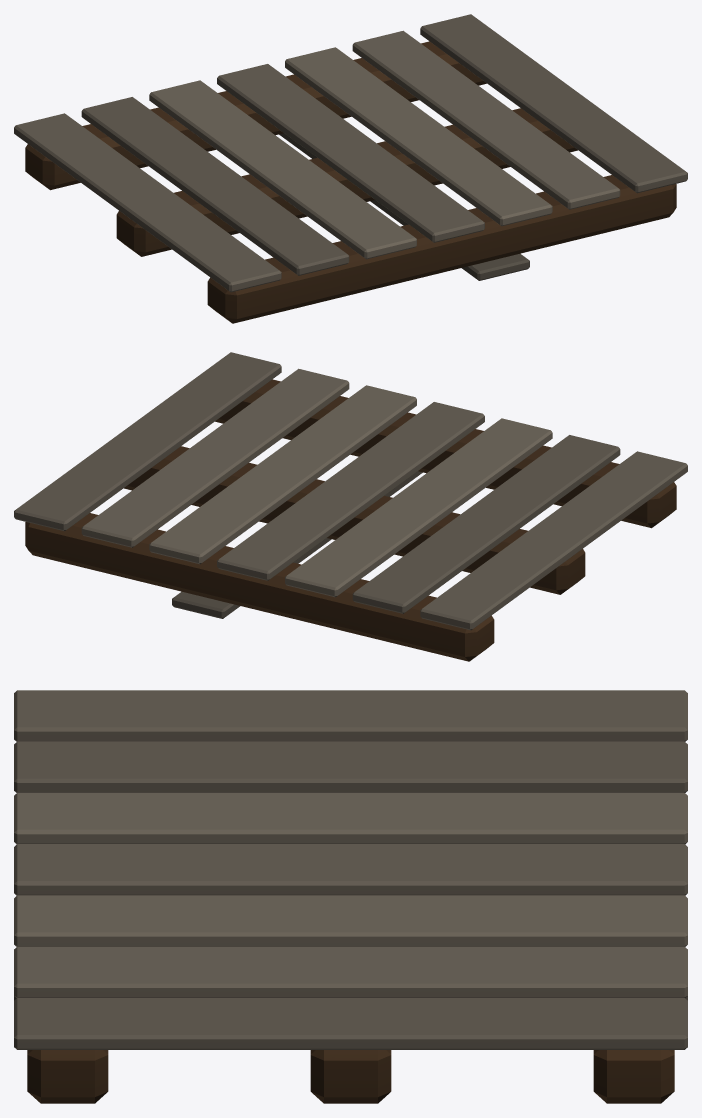
File: pallet.glb
The picture shows the model from 3 angles, top to bottom: view 1: azimuth 30°, elevation 25°; view 2: azimuth 150°, elevation 25°; view 3: azimuth 270°, elevation 25°; orthographic projection. The views are drawn at different scales.
Visible parts, largest first — view 1: pallet; view 2: pallet; view 3: pallet.
Part boxes in pixels (box(x1,y1,x2,y2)): pallet: box(14, 14, 687, 323); pallet: box(14, 352, 687, 661); pallet: box(14, 690, 687, 1103).
Bounding box in the file's own units: 1.22 × 0.15 × 1.
